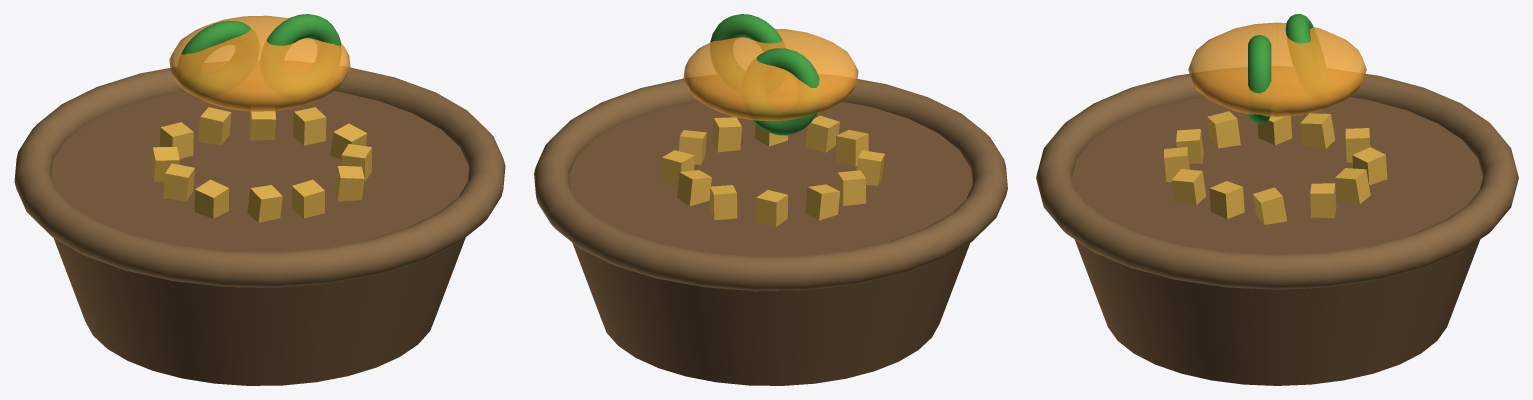
The model's file is papas.glb.
3 views of the same model, side by side, from view 1: azimuth 30°, elevation 25°; view 2: azimuth 150°, elevation 25°; view 3: azimuth 270°, elevation 25° (orthographic). The views are drawn at different scales.
Size of the model in its own units: 0.162 by 0.107 by 0.162.
